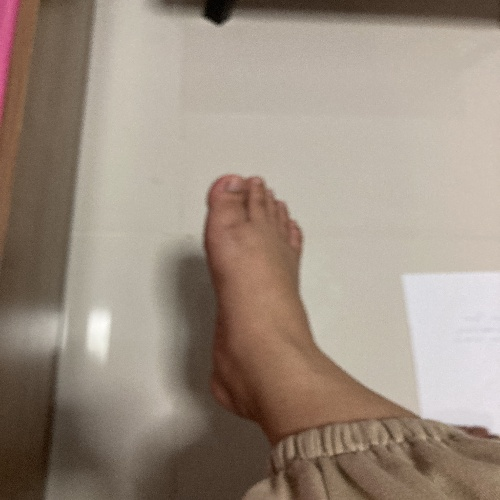3: (207, 175, 249, 225)
Top_Foot: (204, 176, 307, 417)
